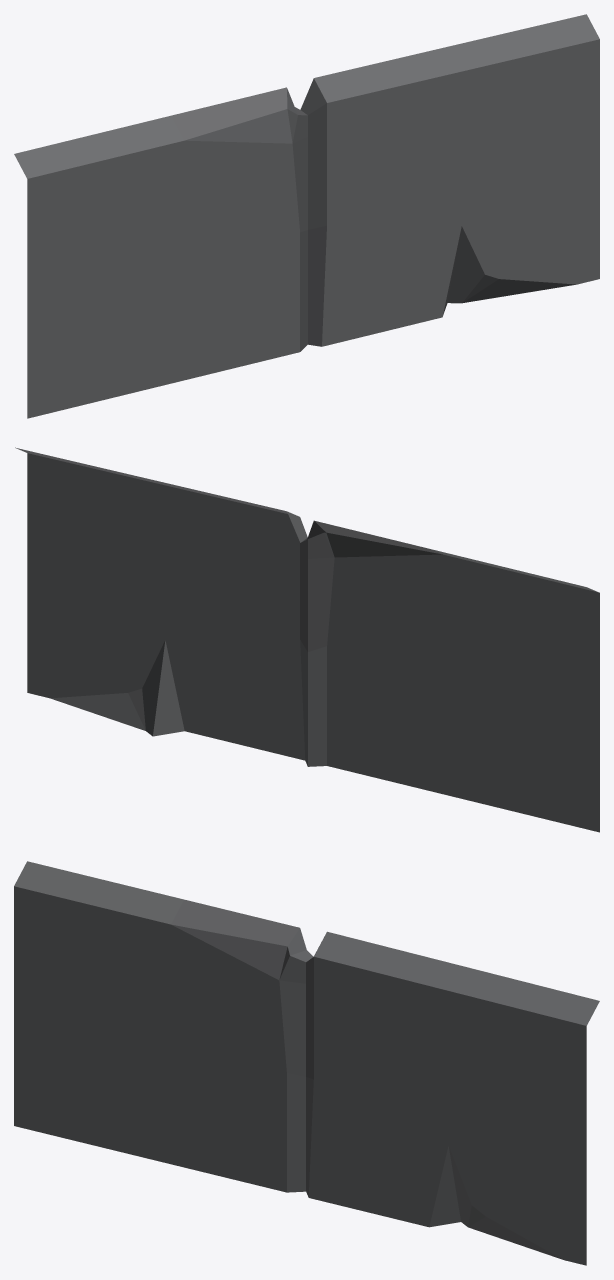
File: SM_Foundation_1m.fbx
3 renders of one model, top to bottom at view 1: azimuth 30°, elevation 25°; view 2: azimuth 150°, elevation 25°; view 3: azimuth 330°, elevation 25°, orthographic.
Visible parts, largest first — view 1: SM_Foundation_1m; view 2: SM_Foundation_1m; view 3: SM_Foundation_1m.
Part boxes in pixels (<box>): SM_Foundation_1m: <box>14,14,599,418</box>; SM_Foundation_1m: <box>15,447,599,832</box>; SM_Foundation_1m: <box>14,861,599,1265</box>.
Size of the model in its own units: 100 by 43.02 by 4.05.
